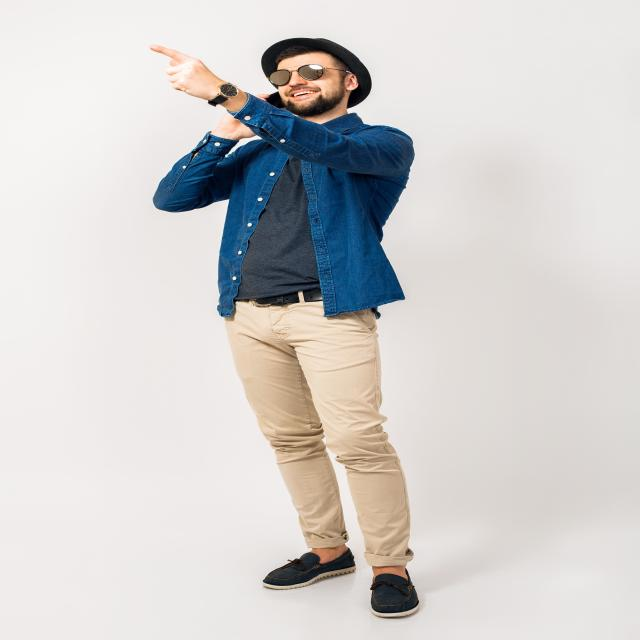Person: (145, 35, 420, 620)
